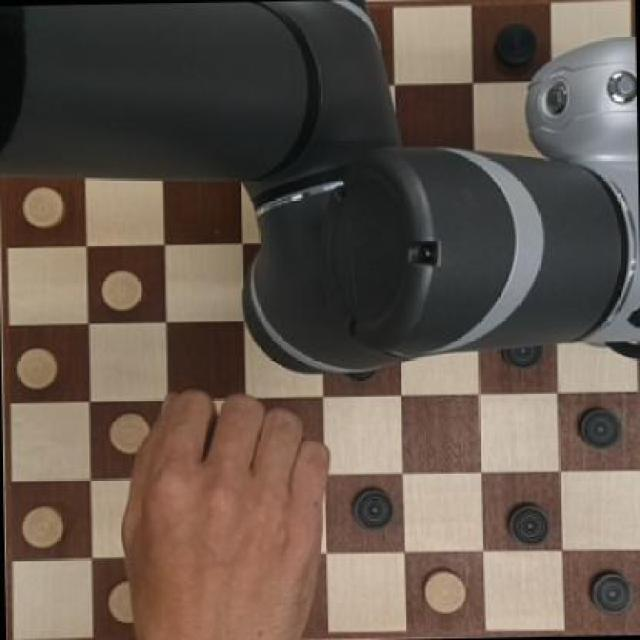black: (503, 497, 555, 551), (346, 479, 396, 533), (582, 566, 633, 616), (578, 406, 626, 452), (496, 18, 536, 66)
white: (100, 257, 150, 317), (419, 563, 471, 619), (16, 342, 64, 395), (16, 502, 66, 552), (104, 412, 150, 460), (18, 185, 64, 229)
